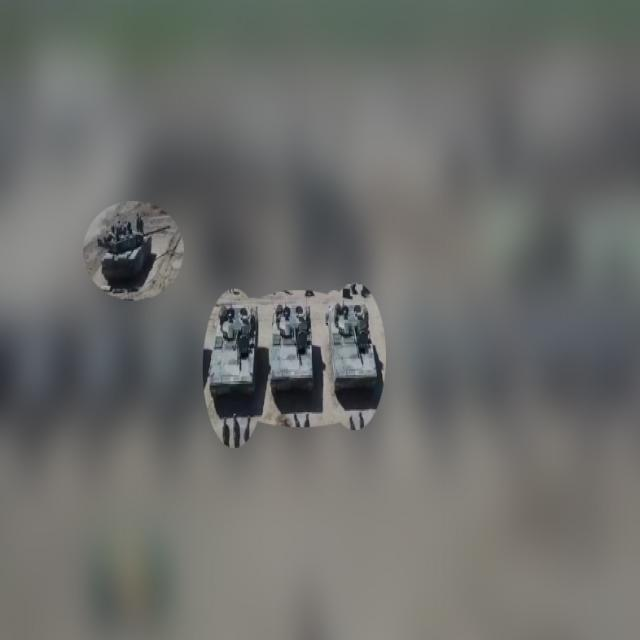tank: (96, 213, 173, 290), (208, 302, 262, 406), (327, 292, 380, 396), (267, 293, 316, 401)
